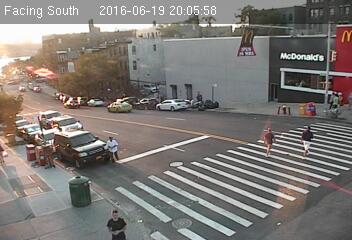neg: (297, 177, 320, 208), (236, 173, 257, 200), (135, 56, 155, 82), (285, 12, 303, 36), (178, 161, 196, 184), (19, 87, 36, 110), (56, 44, 72, 66), (330, 133, 346, 155), (166, 115, 182, 136), (38, 110, 53, 130), (73, 7, 88, 26), (14, 8, 28, 27), (147, 190, 161, 208), (109, 21, 122, 39), (66, 180, 79, 198), (219, 131, 232, 148), (323, 20, 336, 37), (164, 15, 177, 32), (32, 189, 45, 205), (214, 105, 226, 121), (288, 67, 300, 83), (198, 6, 210, 22), (44, 5, 56, 21), (244, 35, 255, 50), (188, 53, 199, 67), (232, 71, 243, 85), (45, 155, 54, 167), (254, 90, 263, 102), (30, 138, 38, 149)
pos: (295, 122, 321, 156), (106, 205, 131, 239), (257, 126, 282, 159), (99, 132, 123, 165)
